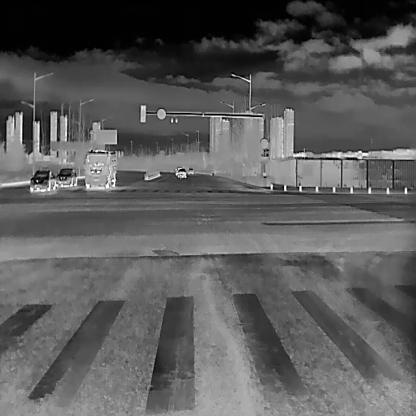car: (82, 148, 116, 188), (29, 168, 55, 191), (55, 168, 76, 186), (176, 167, 185, 177), (187, 165, 193, 174)
